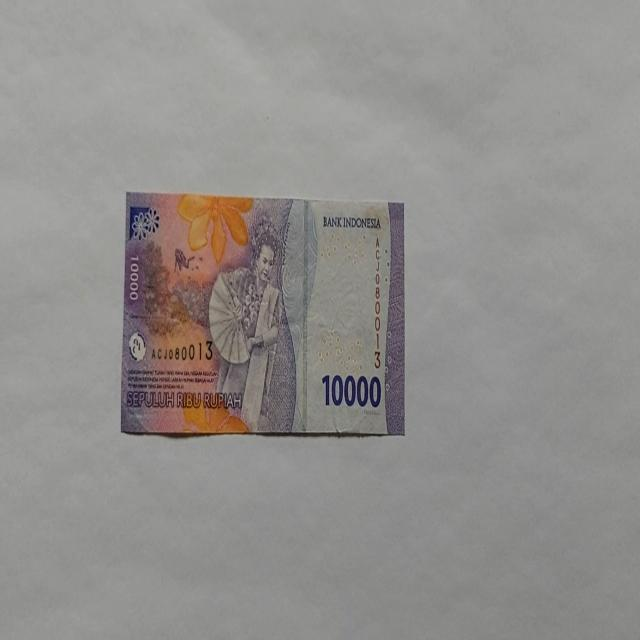sepuluh ribu rupiah: (120, 191, 406, 438)
